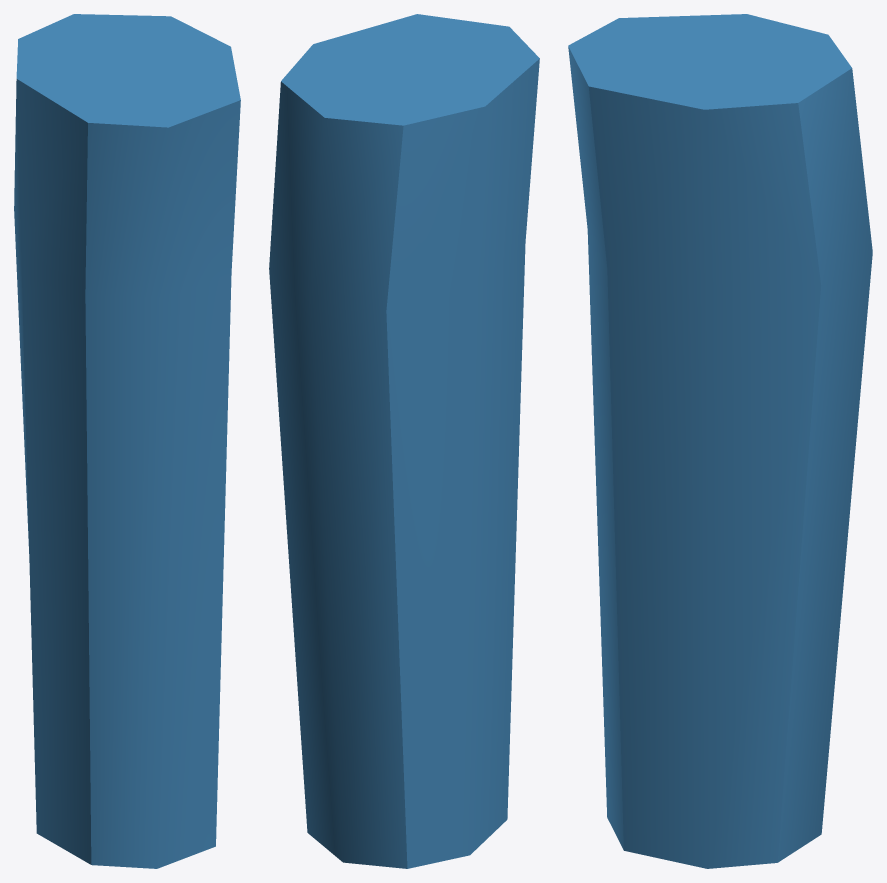
The model's file is Driver_Leg_01B.fbx.
3 renders of one model, left to right at view 1: azimuth 30°, elevation 25°; view 2: azimuth 150°, elevation 25°; view 3: azimuth 270°, elevation 25°, orthographic.
Parts seen in each view (by area): view 1: Driver_Leg_01B; view 2: Driver_Leg_01B; view 3: Driver_Leg_01B.
Boxes of the visible parts, x1,y1,x2,y2 form: Driver_Leg_01B: (14,14,240,868); Driver_Leg_01B: (269,14,539,868); Driver_Leg_01B: (568,14,872,868).
Size of the model in its own units: 12.57 by 47 by 16.9.
